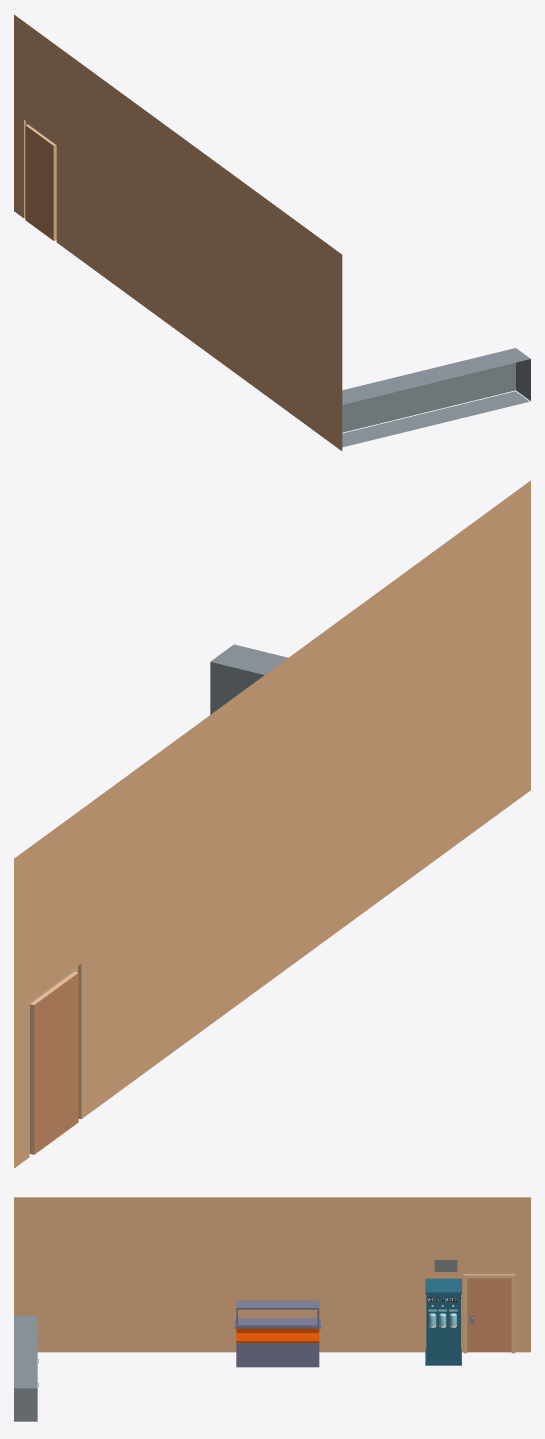
The model's file is AtrasMostrador.fbx.
3 views of the same model, one above another, from view 1: azimuth 30°, elevation 25°; view 2: azimuth 150°, elevation 25°; view 3: azimuth 270°, elevation 25° (orthographic). The views are drawn at different scales.
Parts seen in each view (by area): view 1: DOME_019_Krusty_Burger.004, DOME_019_Krusty_Burger.006; view 2: DOME_019_Krusty_Burger.004, DOME_019_Krusty_Burger.006; view 3: DOME_019_Krusty_Burger.004, DOME_001_kru_burgershelf_base, DOME_020_shakemachine_body, DOME_019_Krusty_Burger.006.
Part boxes in pixels (box(x1,y1,x2,y2)): DOME_019_Krusty_Burger.004: box(14, 14, 342, 450); DOME_019_Krusty_Burger.006: box(342, 348, 530, 447); DOME_019_Krusty_Burger.004: box(14, 480, 530, 1168); DOME_019_Krusty_Burger.006: box(210, 644, 287, 714); DOME_019_Krusty_Burger.004: box(14, 1197, 530, 1353); DOME_001_kru_burgershelf_base: box(234, 1300, 320, 1367); DOME_020_shakemachine_body: box(425, 1278, 461, 1365); DOME_019_Krusty_Burger.006: box(14, 1315, 38, 1421).
Bounding box in the file's own units: 599 × 595 × 1800.
Materials: 4 (4 with a texture image).
